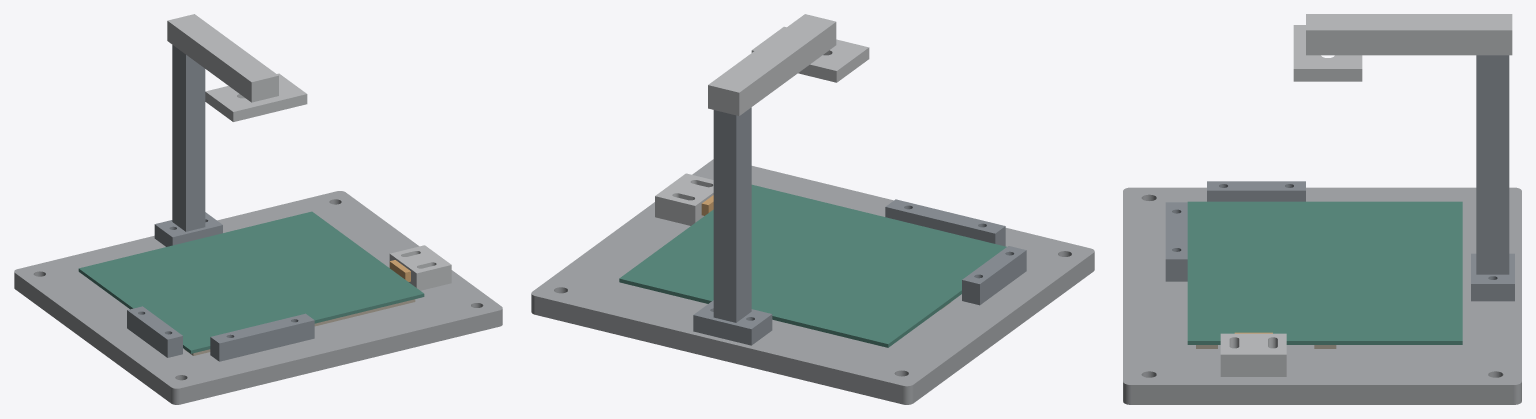
File: inspection-fixture-large.glb
3 renders of one model, left to right at view 1: azimuth 30°, elevation 25°; view 2: azimuth 150°, elevation 25°; view 3: azimuth 270°, elevation 25°, orthographic. The views are drawn at different scales.
Parts seen in each view (by area): view 1: Baseplate, Reference PCB, Camera mast, Camera arm, Y datum stop, Slotted camera plate, Sliding clamp, X datum stop; view 2: Baseplate, Reference PCB, Camera mast, Camera arm, Y datum stop, X datum stop, Sliding clamp, Slotted camera plate; view 3: Reference PCB, Baseplate, Camera mast, Camera arm, Sliding clamp, Slotted camera plate, X datum stop, Y datum stop.
Boxes of the visible parts, <box> form: Baseplate: <box>14,191,502,404</box>; Reference PCB: <box>78,211,424,353</box>; Camera mast: <box>154,45,222,246</box>; Camera arm: <box>167,14,278,102</box>; Y datum stop: <box>210,313,314,361</box>; Slotted camera plate: <box>205,73,307,121</box>; Sliding clamp: <box>389,245,451,290</box>; X datum stop: <box>127,306,182,357</box>; Baseplate: <box>531,159,1094,404</box>; Reference PCB: <box>619,184,1006,347</box>; Camera mast: <box>693,107,772,345</box>; Camera arm: <box>708,14,836,115</box>; Y datum stop: <box>885,199,1005,246</box>; X datum stop: <box>962,246,1026,305</box>; Sliding clamp: <box>655,173,713,225</box>; Slotted camera plate: <box>751,26,869,82</box>; Reference PCB: <box>1187,201,1462,344</box>; Baseplate: <box>1123,187,1521,404</box>; Camera mast: <box>1471,55,1514,301</box>; Camera arm: <box>1306,14,1512,55</box>; Sliding clamp: <box>1220,333,1286,376</box>; Slotted camera plate: <box>1293,25,1362,81</box>; X datum stop: <box>1207,181,1305,201</box>; Y datum stop: <box>1165,202,1187,281</box>.
Bounding box in the file's own units: 0.17 × 0.114 × 0.145.
